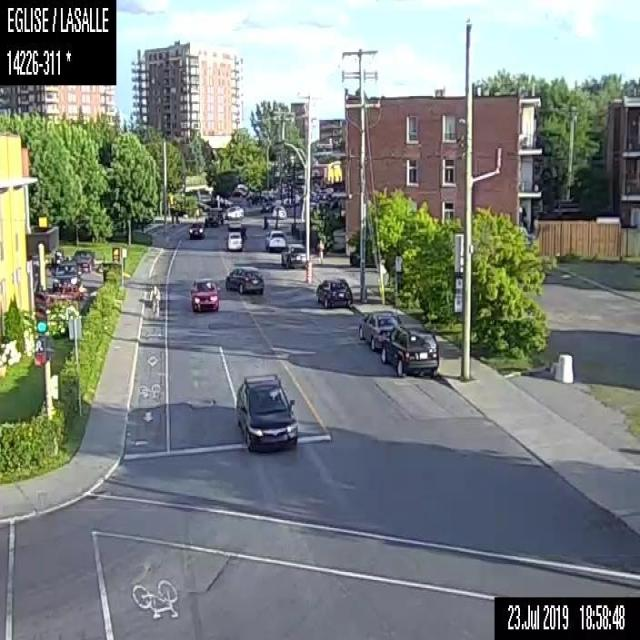cyclist: (147, 283, 160, 320)
pedestrian: (314, 236, 324, 265)
vehicle: (233, 369, 298, 451), (377, 324, 439, 376), (356, 308, 402, 350), (314, 273, 352, 308), (224, 263, 264, 293), (187, 273, 218, 311), (50, 256, 80, 291), (72, 245, 94, 273), (264, 228, 287, 253), (284, 245, 306, 268), (223, 229, 244, 249), (203, 208, 223, 226), (187, 220, 204, 240), (224, 204, 245, 220), (271, 205, 286, 217), (260, 200, 276, 211)
